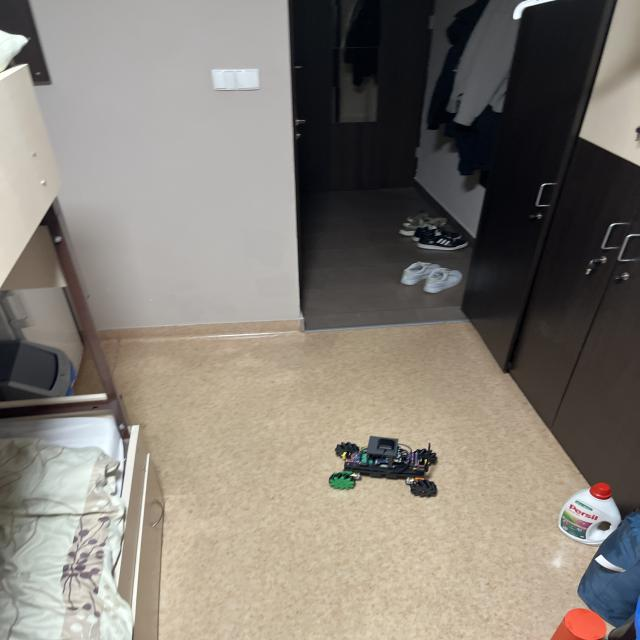robot: (329, 436, 437, 497)
